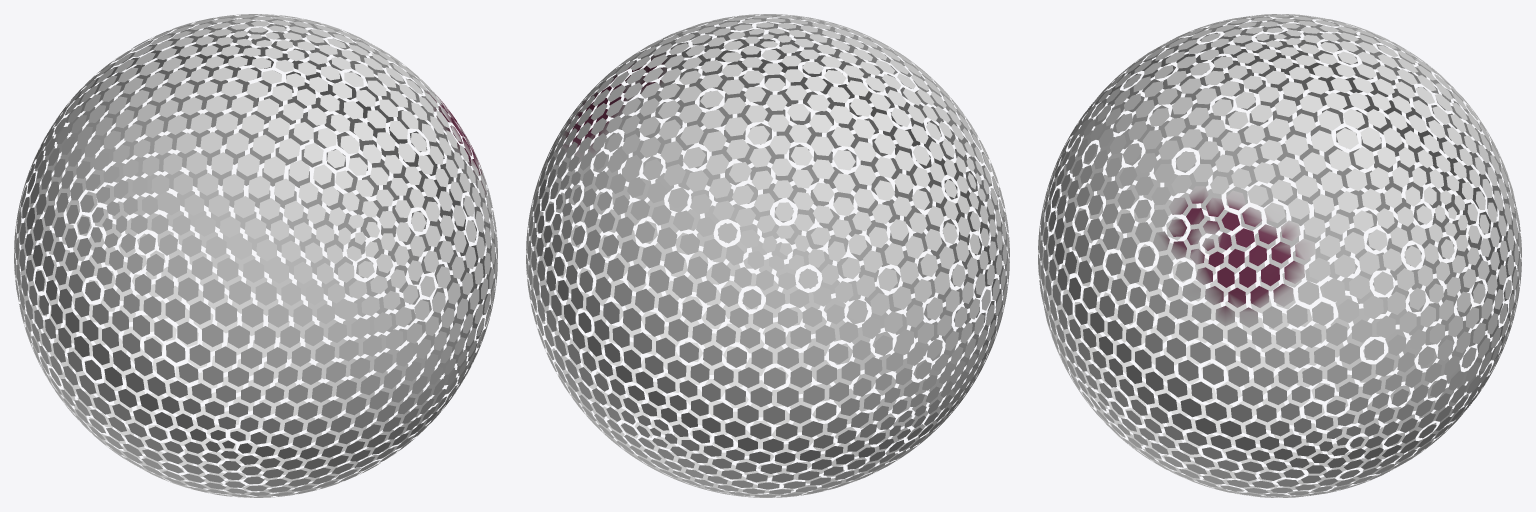
The model's file is hex-sphere-flipped.fbx.
The picture shows the model from 3 angles, left to right: view 1: azimuth 30°, elevation 25°; view 2: azimuth 150°, elevation 25°; view 3: azimuth 270°, elevation 25°; orthographic projection.
Parts seen in each view (by area): view 1: hex-sphere; view 2: hex-sphere; view 3: hex-sphere.
Part boxes in pixels (<box>): hex-sphere: <box>14,14,497,497</box>; hex-sphere: <box>526,14,1009,497</box>; hex-sphere: <box>1038,14,1521,497</box>.
Bounding box in the file's own units: 200 × 200 × 200.
